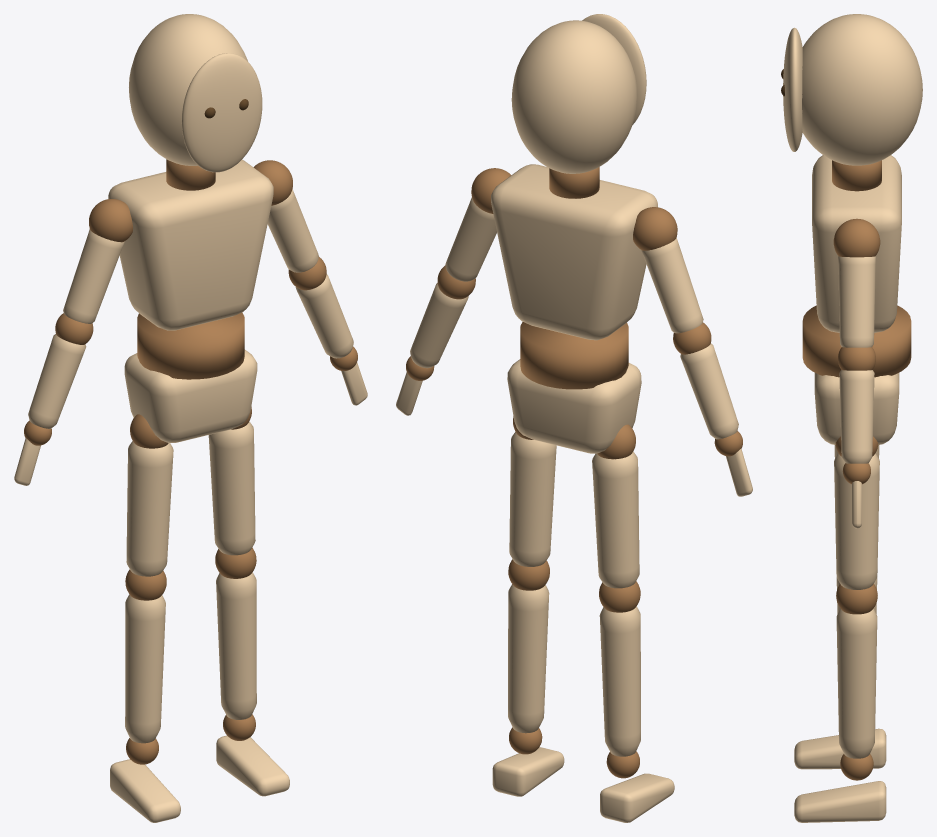
Rendered from RiggingTestDummy.fbx.
The picture shows the model from 3 angles, left to right: view 1: azimuth 30°, elevation 25°; view 2: azimuth 150°, elevation 25°; view 3: azimuth 270°, elevation 25°; orthographic projection.
Visible parts, largest first — view 1: Chest, Head, Pelvis, Face_Plate, Waist_Joint, Thigh_R, Shin_R, Shin_L, Thigh_L, UpperArm_R, Forearm_R, Foot_R (+15 smaller); view 2: Chest, Head, Pelvis, Waist_Joint, Thigh_R, Shin_R, Shin_L, Thigh_L, UpperArm_R, Forearm_R, UpperArm_L, Forearm_L (+15 smaller); view 3: Head, Chest, Shin_L, Thigh_L, Waist_Joint, UpperArm_L, Pelvis, Foot_L, Forearm_L, Face_Plate, Foot_R, Shoulder_Joint_L (+6 smaller).
Part boxes in pixels (x1,y1,x2,y2): Chest: (108, 159, 273, 330); Head: (129, 14, 247, 165); Pelvis: (124, 349, 257, 442); Face_Plate: (181, 53, 262, 172); Waist_Joint: (137, 312, 244, 379); Thigh_R: (126, 441, 173, 576); Shin_R: (125, 594, 165, 743); Shin_L: (216, 572, 256, 719); Thigh_L: (208, 421, 255, 555); UpperArm_R: (63, 229, 124, 323); Forearm_R: (28, 334, 86, 428); Foot_R: (110, 759, 180, 822); Chest: (491, 164, 657, 340); Head: (511, 20, 637, 173); Pelvis: (507, 359, 641, 453); Waist_Joint: (520, 322, 628, 389); Thigh_R: (592, 451, 639, 588); Shin_R: (599, 606, 640, 756); Shin_L: (508, 584, 549, 733); Thigh_L: (509, 432, 556, 566); UpperArm_R: (641, 238, 703, 333); Forearm_R: (680, 343, 738, 439); UpperArm_L: (445, 197, 496, 281); Forearm_L: (410, 283, 468, 368); Head: (802, 14, 922, 165); Chest: (812, 155, 901, 332); Shin_L: (836, 608, 877, 758); Thigh_L: (834, 453, 879, 589); Waist_Joint: (802, 305, 911, 377); UpperArm_L: (838, 256, 875, 347); Pelvis: (814, 373, 899, 444); Foot_L: (794, 781, 886, 822); Forearm_L: (839, 370, 874, 463); Face_Plate: (783, 27, 802, 151); Foot_R: (794, 728, 886, 769); Shoulder_Joint_L: (833, 218, 880, 257).
Size of the model in its own units: 98.08 by 204 by 34.01.
